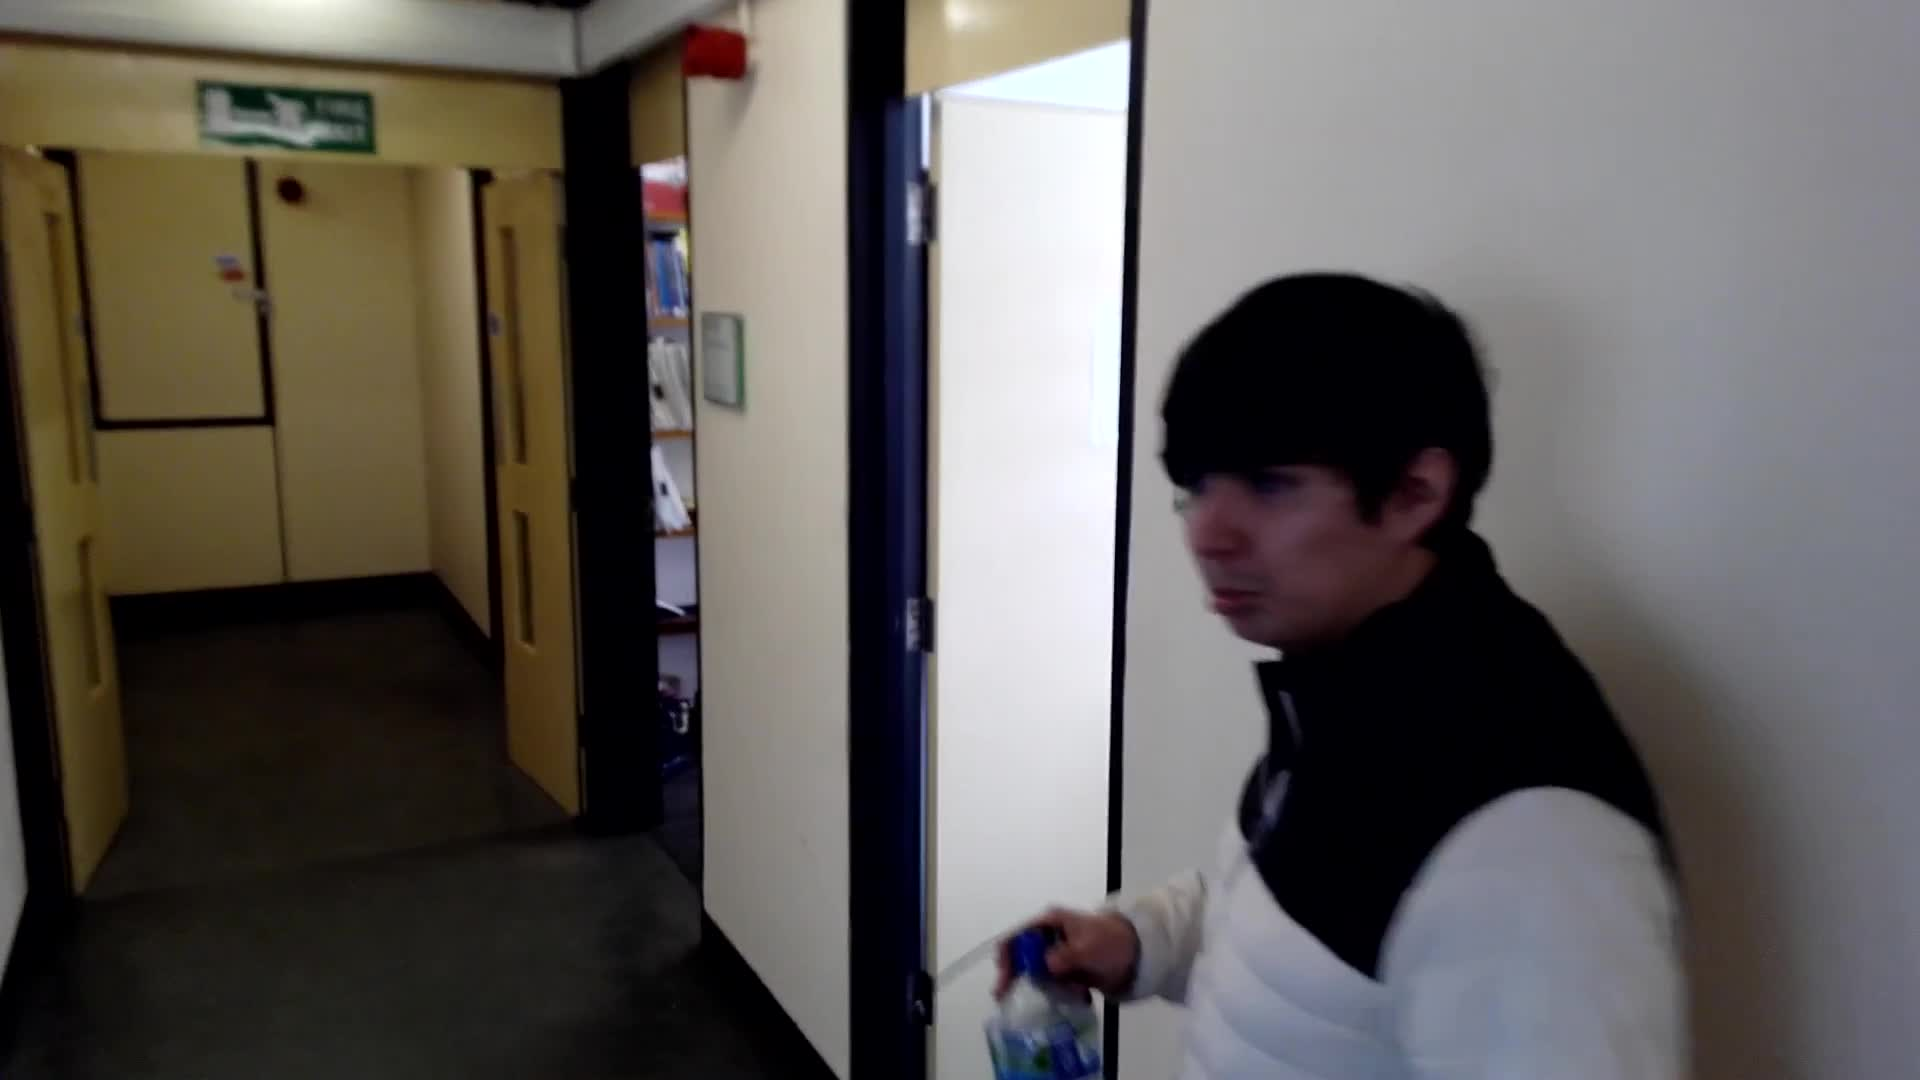Person: (1080, 271, 1774, 1080)
